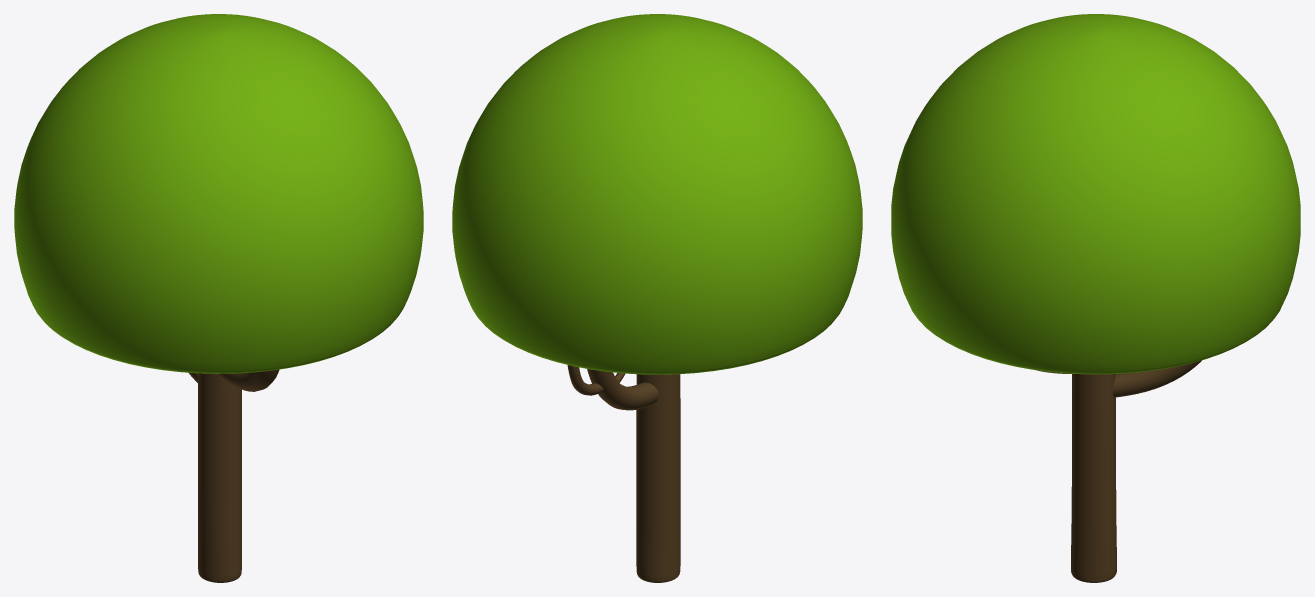
Rendered from plant_bubble_tree_abstract.obj.
3 renders of one model, left to right at view 1: azimuth 30°, elevation 25°; view 2: azimuth 150°, elevation 25°; view 3: azimuth 270°, elevation 25°, orthographic.
Visible parts, largest first — view 1: bubble_tree; view 2: bubble_tree; view 3: bubble_tree.
Part boxes in pixels (box(x1,y1,x2,y2)): bubble_tree: box(14, 14, 423, 582); bubble_tree: box(452, 14, 862, 582); bubble_tree: box(891, 14, 1300, 582).
Bounding box in the file's own units: 69.8 × 102 × 69.8.
1 material, 1 textured.
